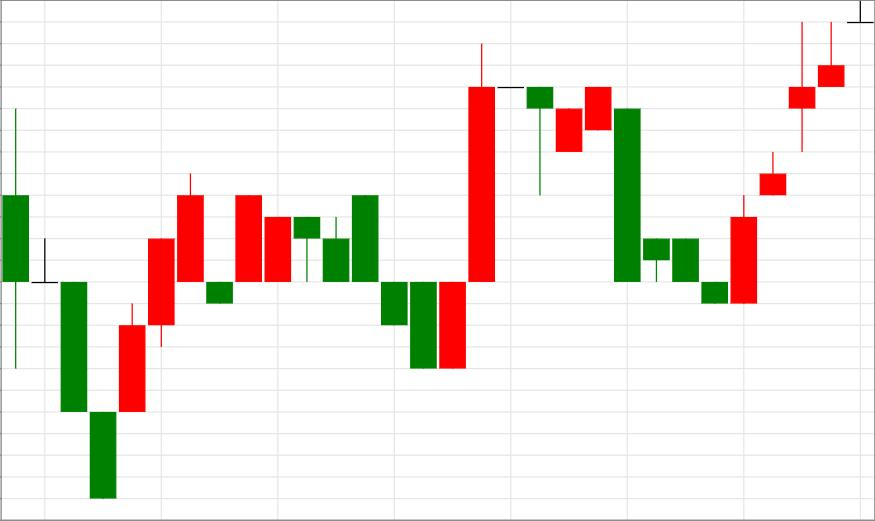bullish_engulfing_rise: (614, 108, 757, 303)
three_white_soldiers_rise: (2, 109, 205, 498)
